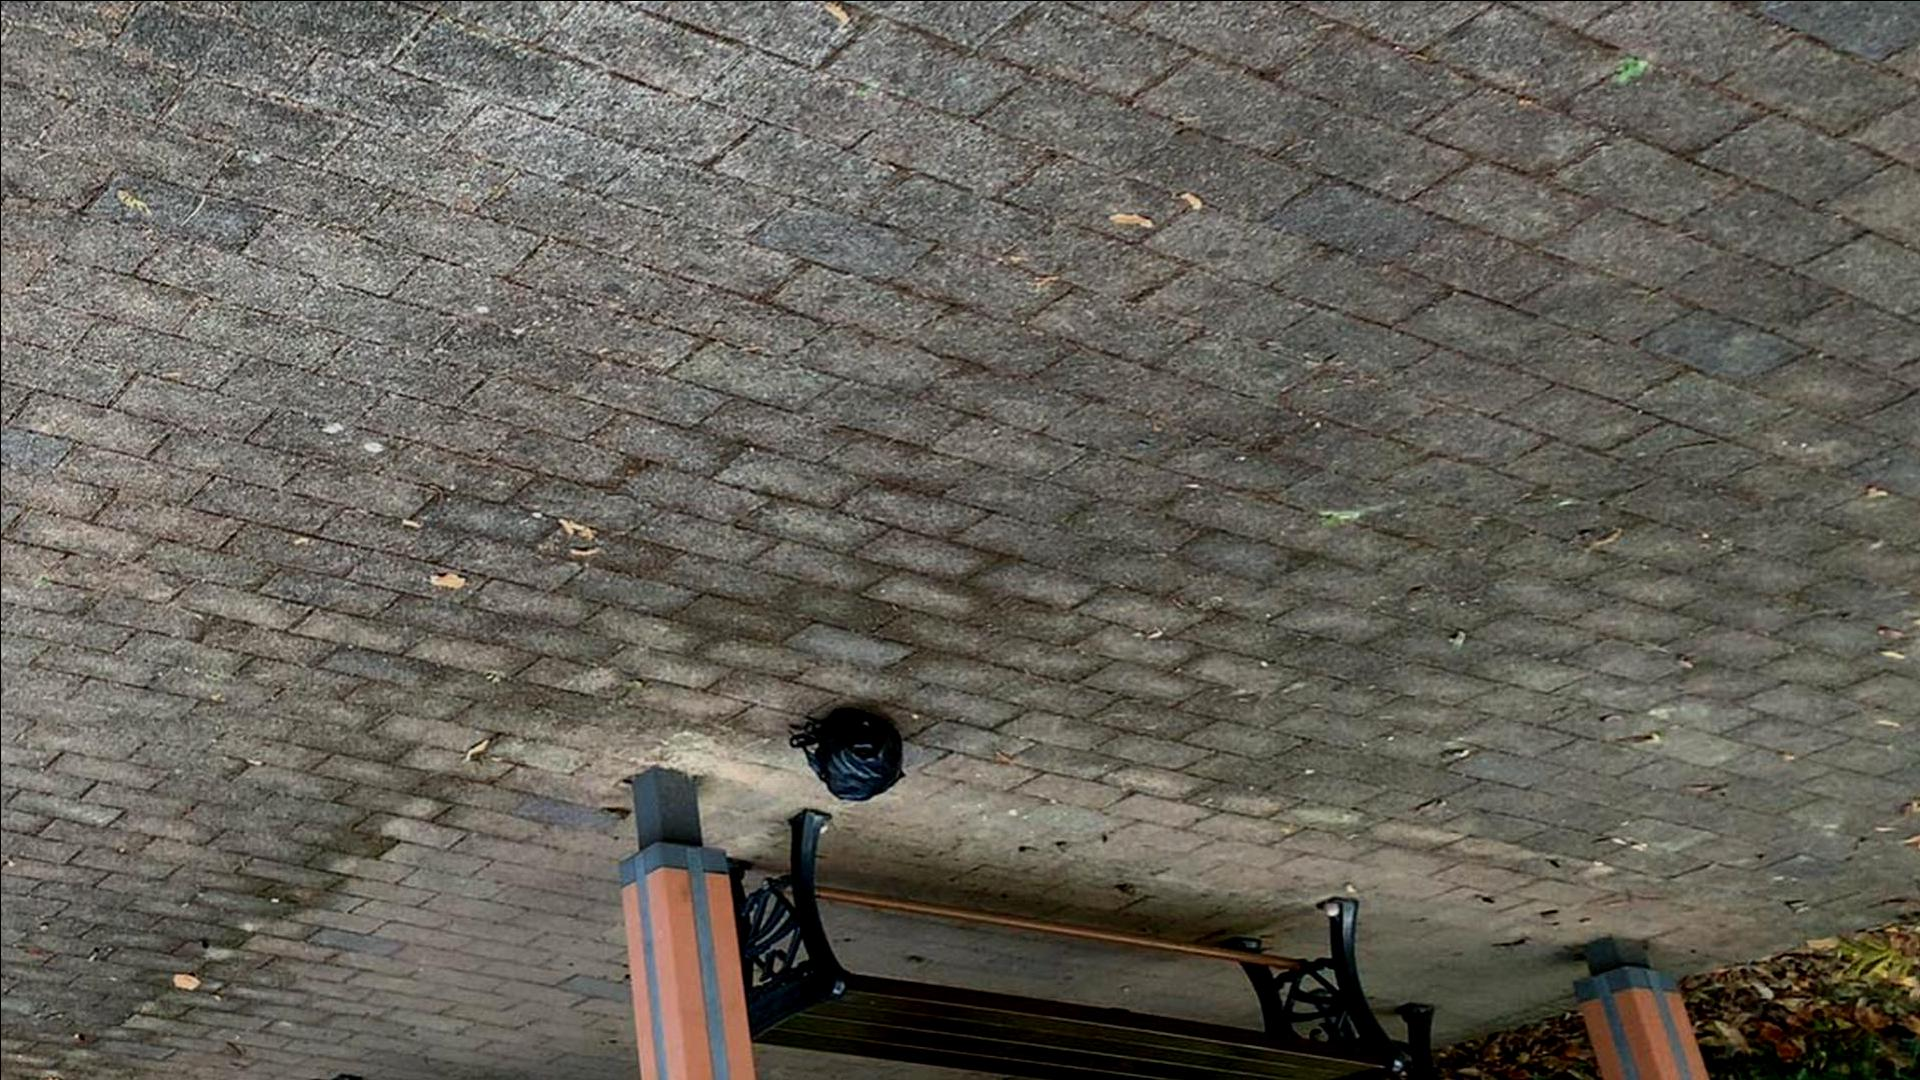black_bag: (785, 699, 911, 803)
